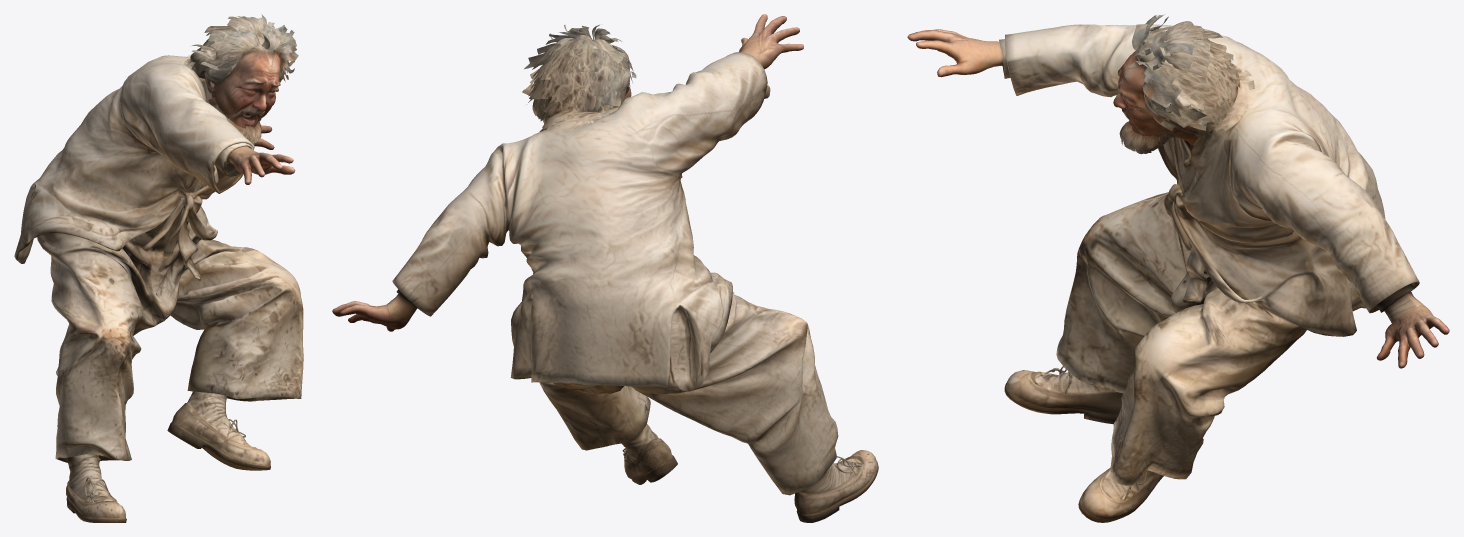
Rendered from grandfather-41400d4ade.glb.
The picture shows the model from 3 angles, left to right: view 1: azimuth 30°, elevation 25°; view 2: azimuth 150°, elevation 25°; view 3: azimuth 270°, elevation 25°; orthographic projection. The views are drawn at different scales.
Visible parts, largest first — view 1: tripo_node_4ab5324f-92b0-4aae-8048-8227cb507545; view 2: tripo_node_4ab5324f-92b0-4aae-8048-8227cb507545; view 3: tripo_node_4ab5324f-92b0-4aae-8048-8227cb507545.
Part boxes in pixels (x1,y1,x2,y2): tripo_node_4ab5324f-92b0-4aae-8048-8227cb507545: (14, 14, 303, 522); tripo_node_4ab5324f-92b0-4aae-8048-8227cb507545: (332, 14, 878, 522); tripo_node_4ab5324f-92b0-4aae-8048-8227cb507545: (907, 14, 1449, 522).
Bounding box in the file's own units: 0.8385 × 0.9995 × 0.9614.
Materials: 1 (1 with a texture image).
